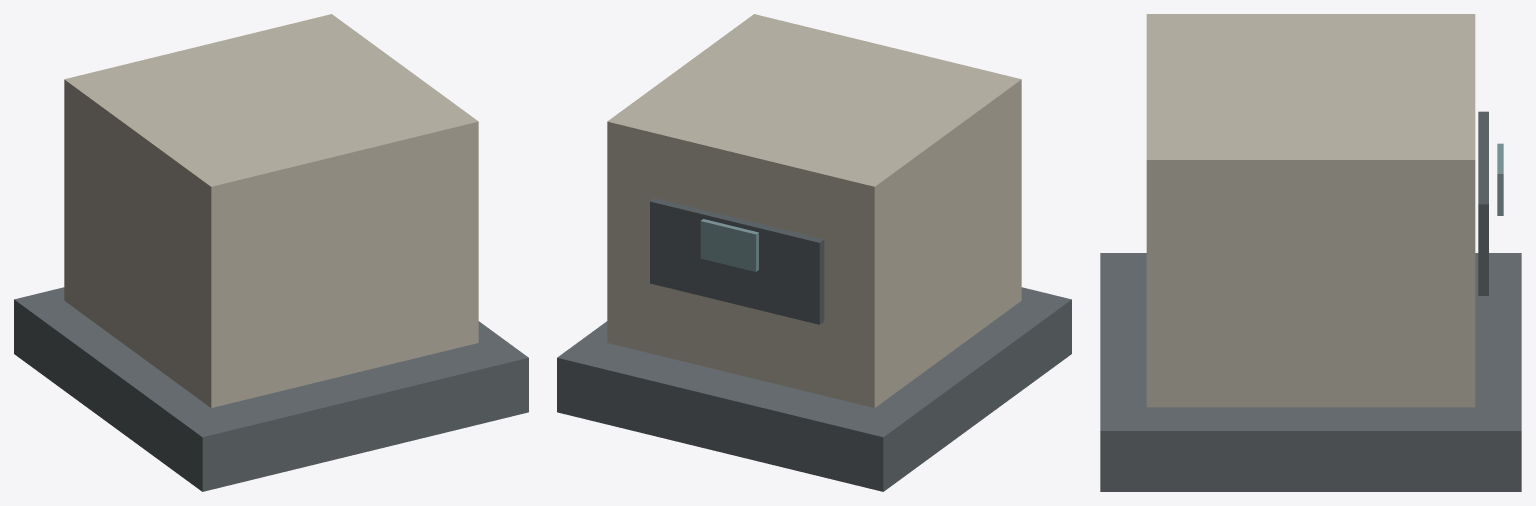
The model's file is iz3_production_mechanic_01.glb.
3 renders of one model, left to right at view 1: azimuth 30°, elevation 25°; view 2: azimuth 150°, elevation 25°; view 3: azimuth 270°, elevation 25°, orthographic. The views are drawn at different scales.
Visible parts, largest first — view 1: cabinet, base; view 2: cabinet, base, panel, display; view 3: cabinet, base, panel, display.
Boxes of the visible parts, x1,y1,x2,y2 form: cabinet: (64,14,478,407); base: (14,287,528,491); cabinet: (607,14,1021,407); base: (557,287,1071,491); panel: (650,198,824,324); display: (700,219,758,271); cabinet: (1146,14,1475,407); base: (1100,253,1521,491); panel: (1478,111,1488,295); display: (1497,143,1503,215).
Size of the model in its own units: 2 by 1.66 by 2.
